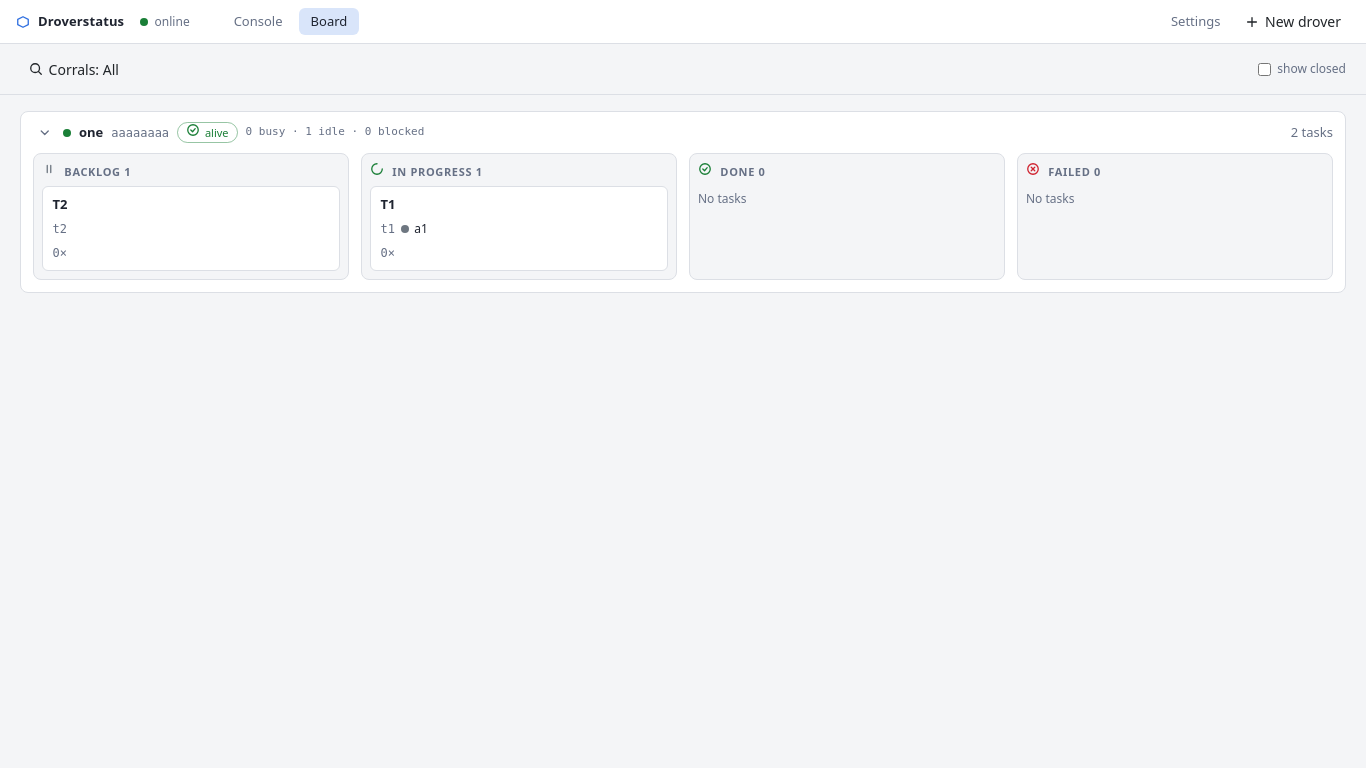
App navigation › board card click navigates to owner screen / corral
Click the button with test id "task-card-aaaaaaaa-t1": (388, 204) top-left (370, 186), bottom-right (668, 271)
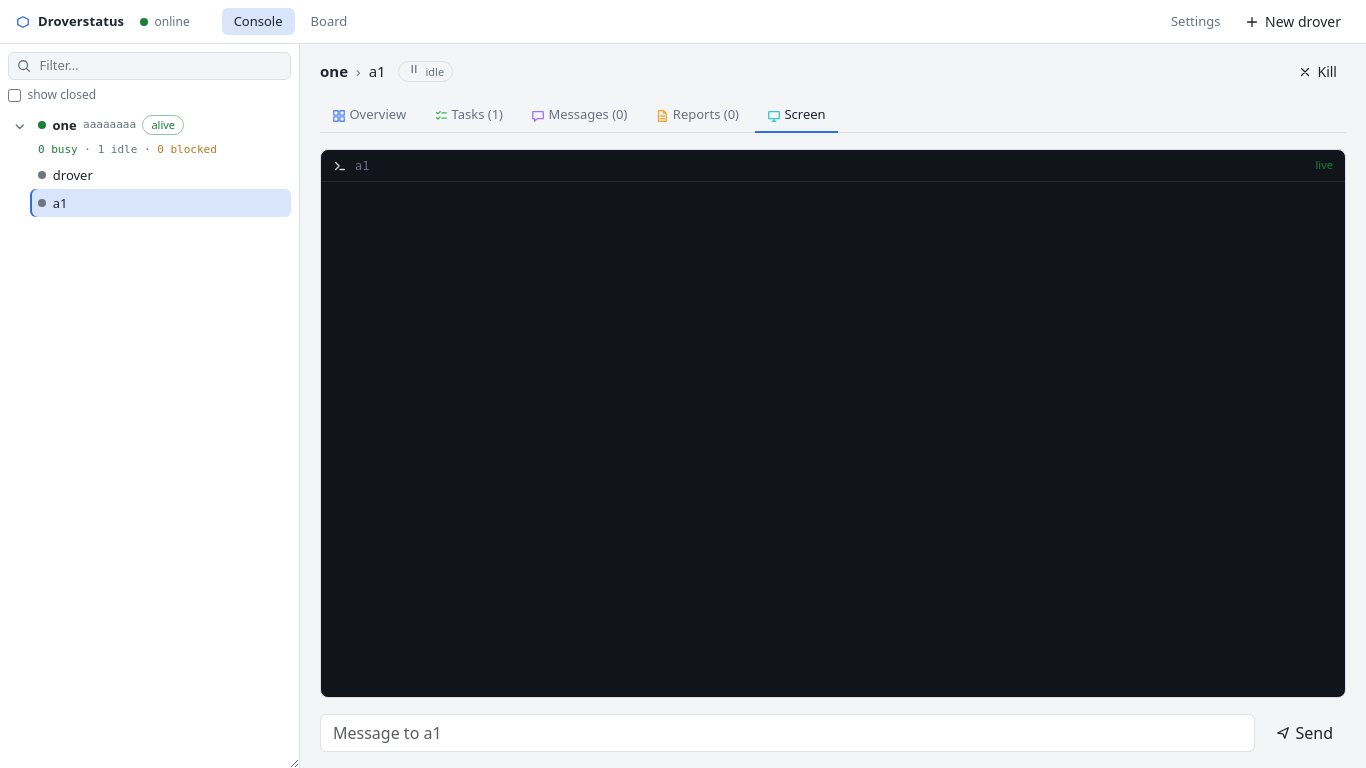
Expected: the element with test id "agent-detail" is shown
Click the link with test id "nav-board": (329, 21) top-left (311, 12), bottom-right (347, 30)
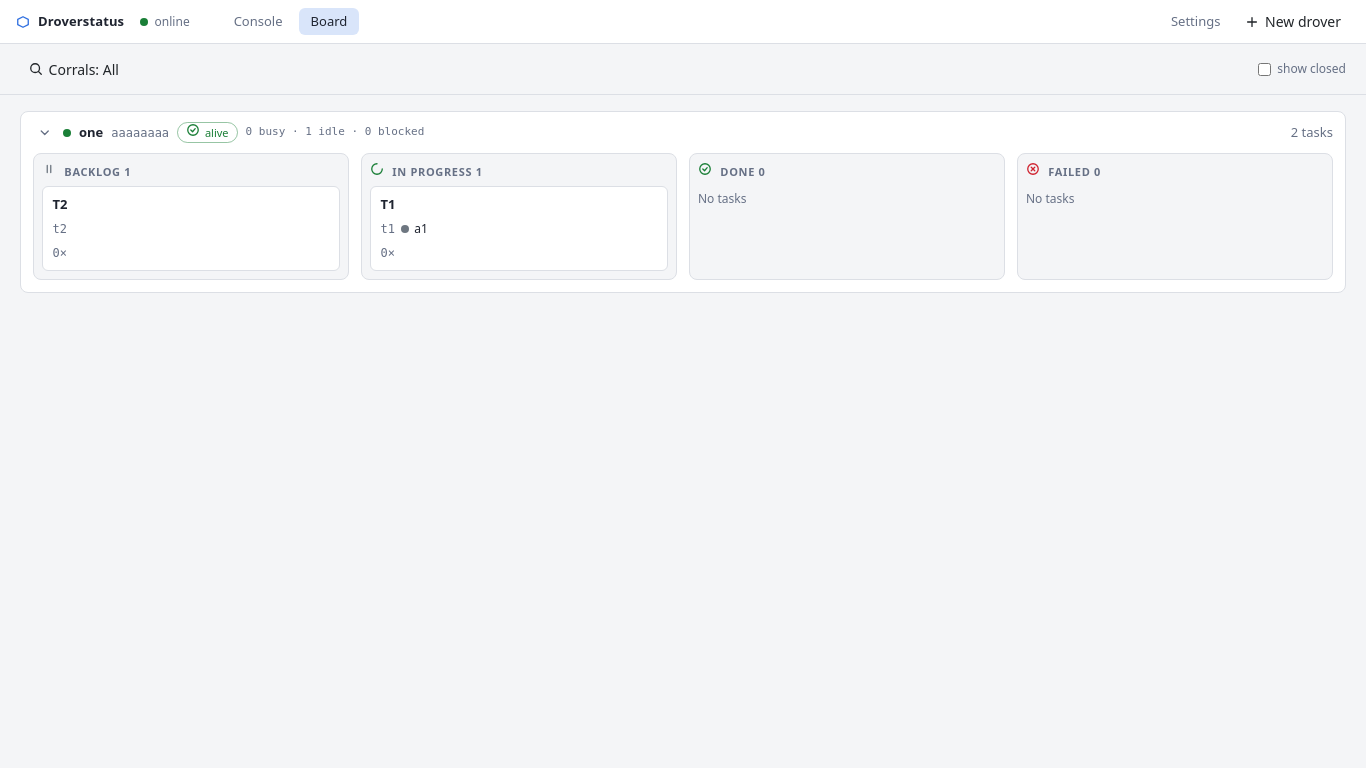
Click the button with test id "task-card-aaaaaaaa-t2": (60, 204) top-left (42, 186), bottom-right (340, 271)
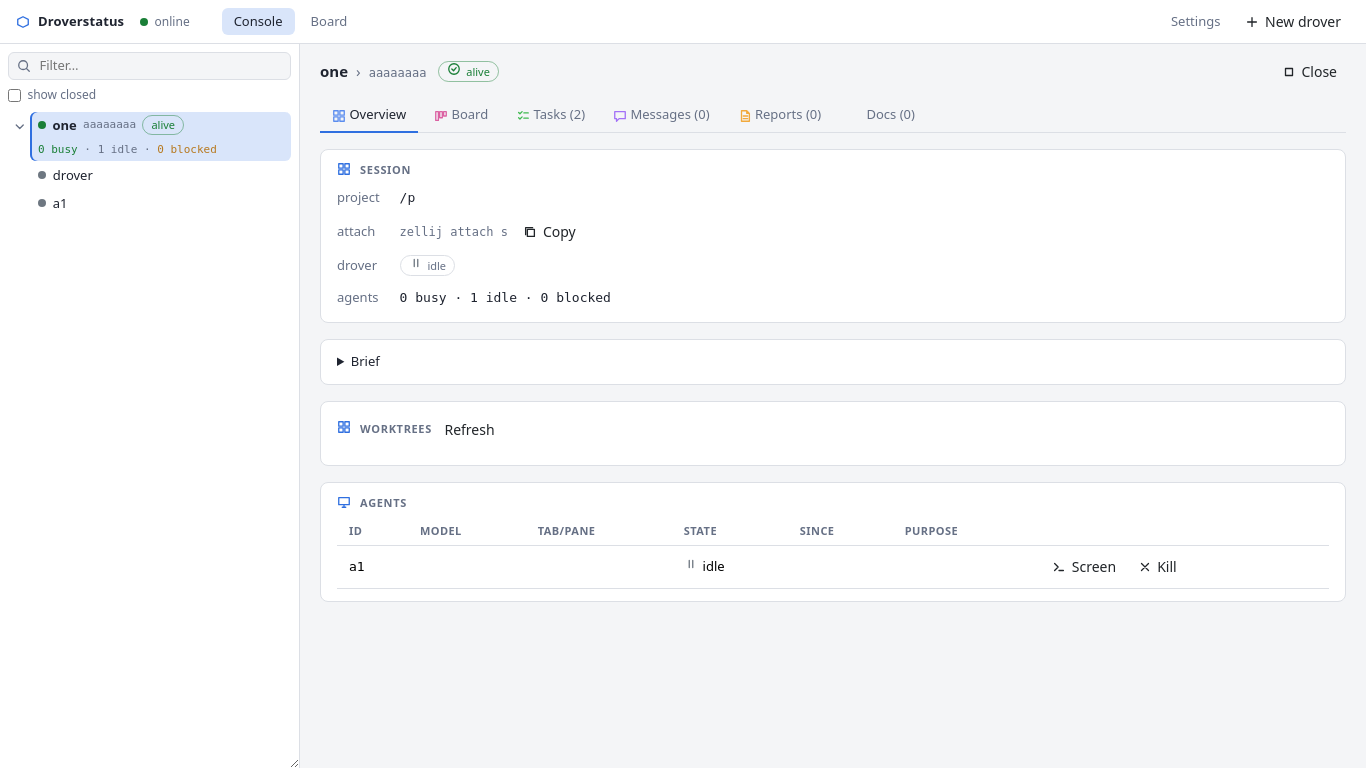
Expected: the element with test id "corral-view" is shown
